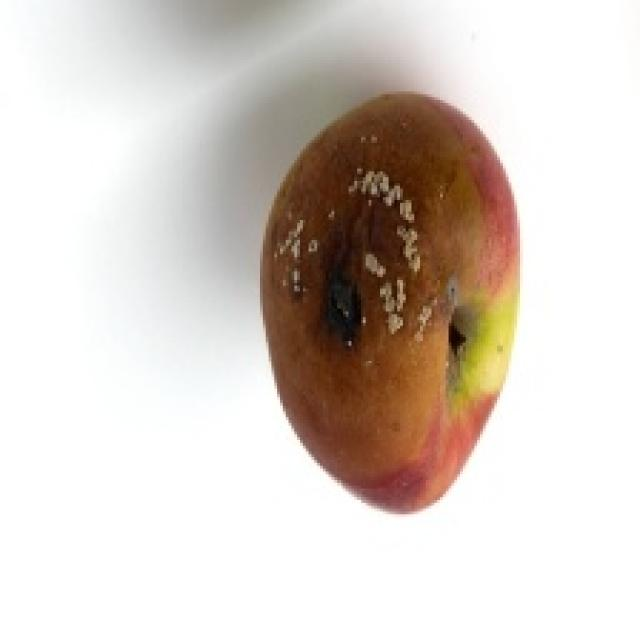rotten_apple: (262, 92, 514, 508)
